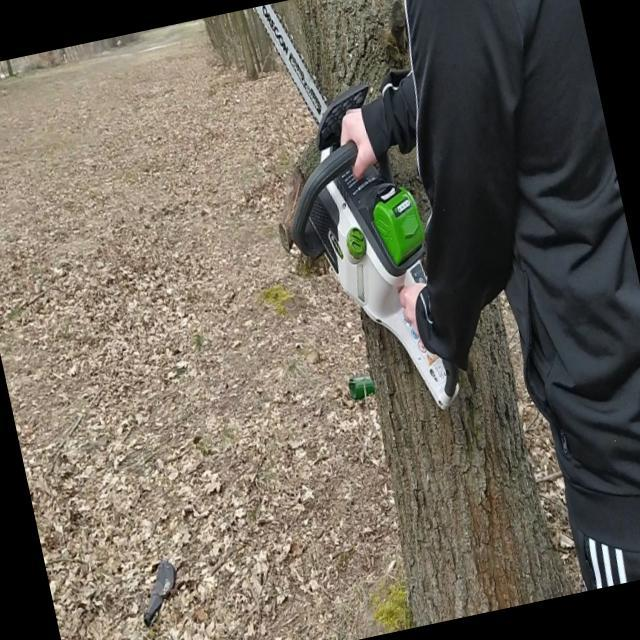Chainsaw: (233, 0, 477, 440)
